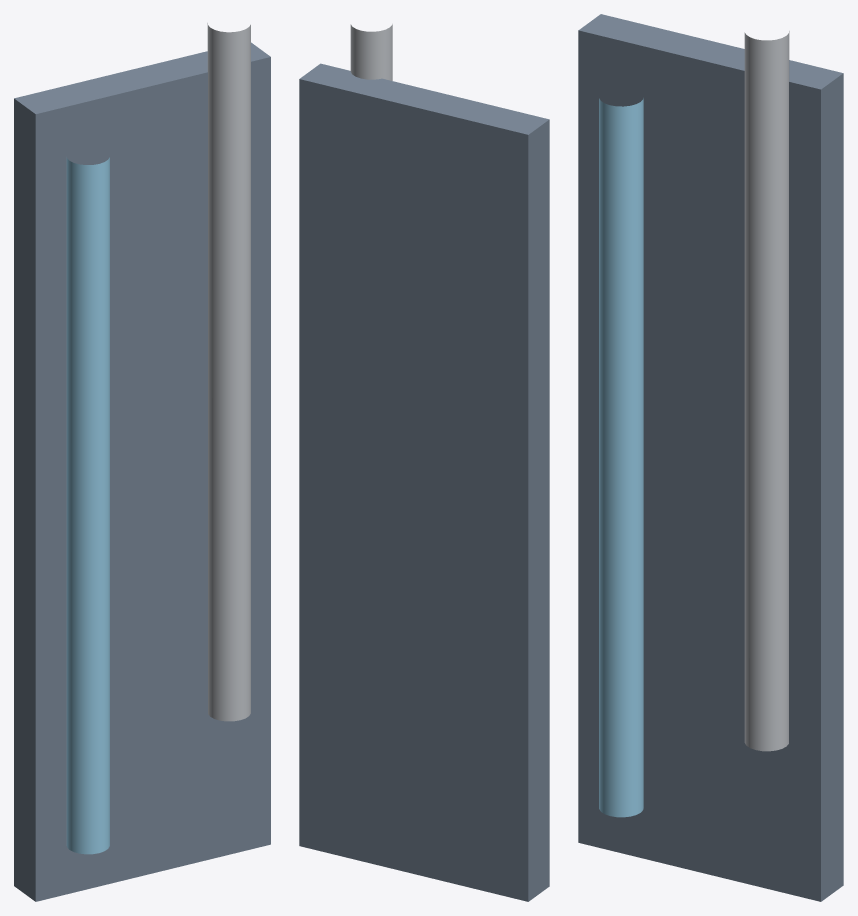
Rendered from boyles_law_isothermal_gas.glb.
3 renders of one model, left to right at view 1: azimuth 30°, elevation 25°; view 2: azimuth 150°, elevation 25°; view 3: azimuth 330°, elevation 25°, orthographic. The views are drawn at different scales.
Parts seen in each view (by area): view 1: HeavyCastIronUprightStandScale, GraduatedGlassBoyleTubeColumn, MercuryReservoirFlexibleManometer; view 2: HeavyCastIronUprightStandScale, MercuryReservoirFlexibleManometer; view 3: HeavyCastIronUprightStandScale, MercuryReservoirFlexibleManometer, GraduatedGlassBoyleTubeColumn.
Boxes of the visible parts, x1,y1,x2,y2 form: HeavyCastIronUprightStandScale: [14, 42, 270, 901]; GraduatedGlassBoyleTubeColumn: [66, 157, 109, 854]; MercuryReservoirFlexibleManometer: [207, 23, 250, 721]; HeavyCastIronUprightStandScale: [299, 63, 549, 901]; MercuryReservoirFlexibleManometer: [350, 24, 392, 80]; HeavyCastIronUprightStandScale: [578, 14, 843, 901]; MercuryReservoirFlexibleManometer: [744, 31, 789, 751]; GraduatedGlassBoyleTubeColumn: [599, 98, 643, 817].
Bounding box in the file's own units: 0.5 × 1.7 × 0.14.
